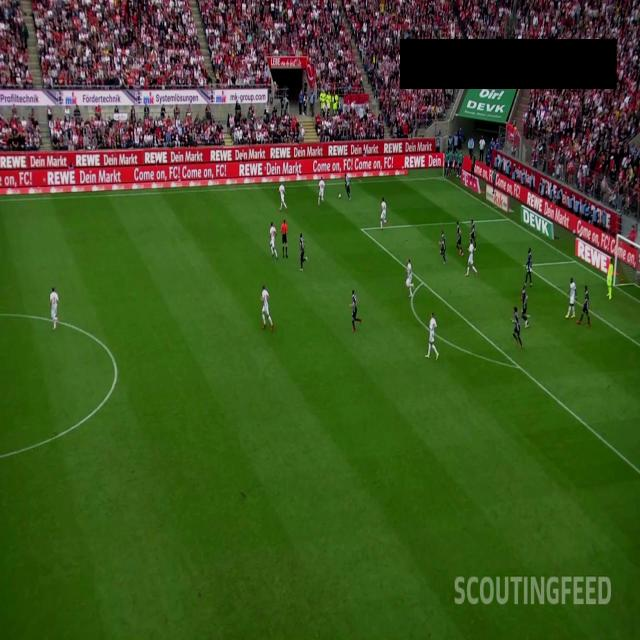goalkeeper: (606, 258, 614, 300)
player: (425, 311, 439, 361), (260, 284, 274, 330), (576, 285, 591, 327), (464, 238, 478, 278), (350, 289, 362, 333), (511, 306, 523, 349), (565, 277, 577, 319), (520, 284, 530, 328), (50, 286, 60, 330), (524, 247, 534, 287), (299, 233, 309, 271), (278, 180, 288, 212), (270, 221, 278, 261), (406, 258, 414, 298), (468, 218, 477, 252), (456, 221, 464, 257), (439, 230, 447, 265), (380, 196, 388, 229), (317, 176, 325, 206), (344, 172, 352, 200)
referee: (280, 218, 288, 258)
